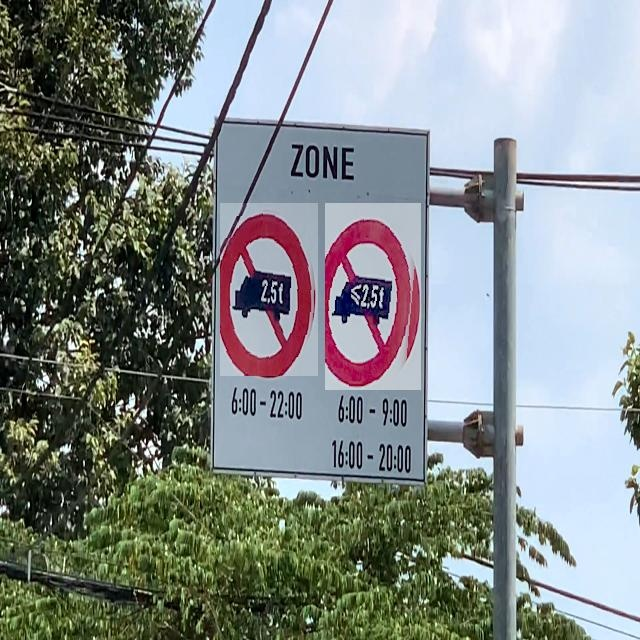bien_cam: (326, 203, 422, 390), (220, 203, 318, 376)
